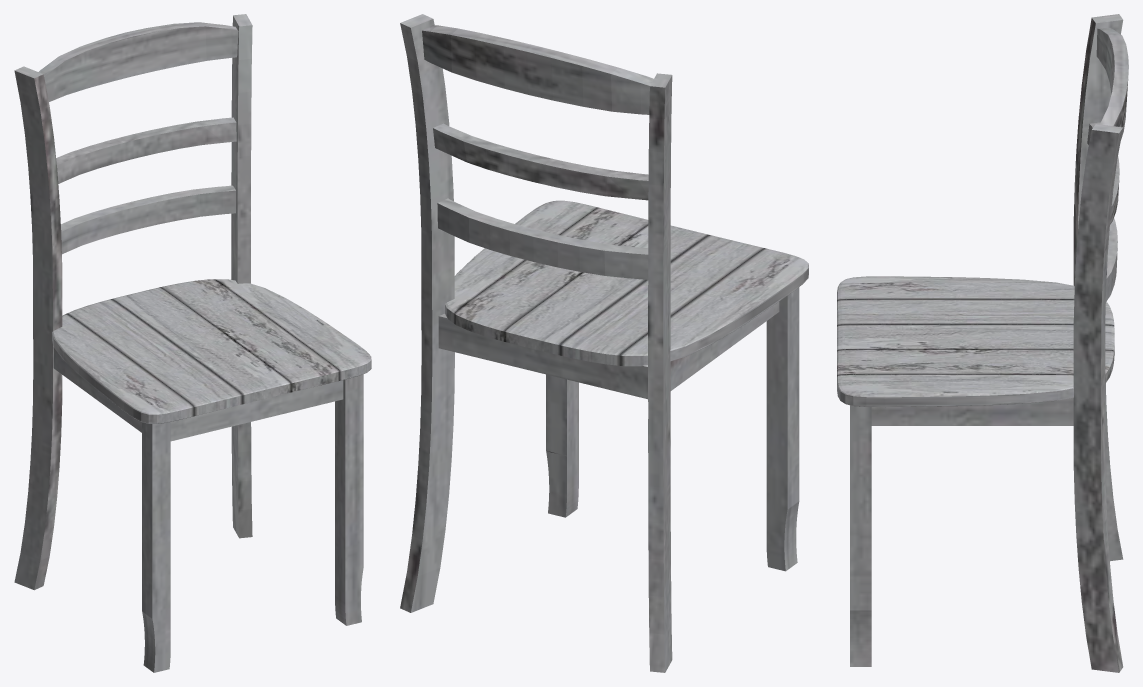
The model's file is by-kitchenchair.glb.
The picture shows the model from 3 angles, left to right: view 1: azimuth 30°, elevation 25°; view 2: azimuth 150°, elevation 25°; view 3: azimuth 270°, elevation 25°; orthographic projection. The views are drawn at different scales.
Visible parts, largest first — view 1: Plane_Plane.003, Cube.001_Cube.007; view 2: Plane_Plane.003, Cube.001_Cube.007; view 3: Plane_Plane.003, Cube.001_Cube.007.
Boxes of the visible parts, x1=… form: Plane_Plane.003: x1=14, y1=14, x2=363, y2=672; Cube.001_Cube.007: x1=52, y1=279, x2=371, y2=423; Plane_Plane.003: x1=400, y1=14, x2=799, y2=672; Cube.001_Cube.007: x1=445, y1=200, x2=808, y2=366; Plane_Plane.003: x1=850, y1=14, x2=1128, y2=672; Cube.001_Cube.007: x1=837, y1=276, x2=1114, y2=407.
Size of the model in its own units: 0.43 by 0.91 by 0.44.
Materials: 1 (1 with a texture image).
